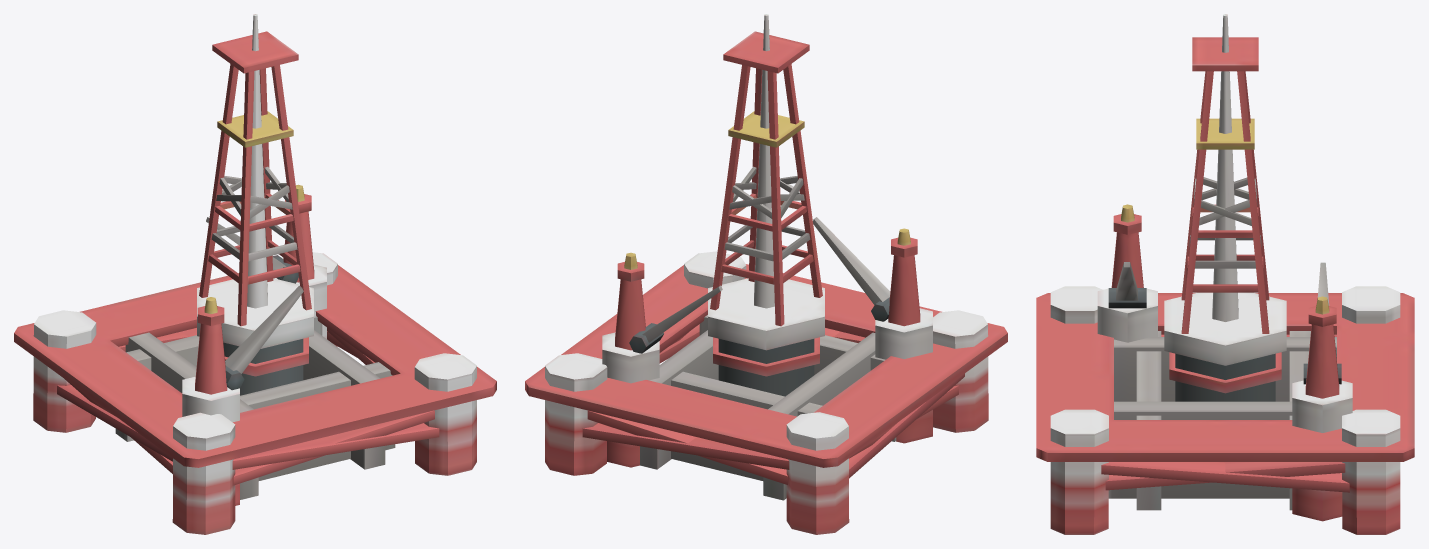
3 renders of one model, left to right at view 1: azimuth 30°, elevation 25°; view 2: azimuth 150°, elevation 25°; view 3: azimuth 270°, elevation 25°, orthographic. The views are drawn at different scales.
Parts seen in each view (by area): view 1: SM_CAIYOUPINGTAI; view 2: SM_CAIYOUPINGTAI; view 3: SM_CAIYOUPINGTAI.
Boxes of the visible parts, box(x1,y1,x2,y2) form: SM_CAIYOUPINGTAI: box(14, 14, 496, 534); SM_CAIYOUPINGTAI: box(525, 14, 1007, 534); SM_CAIYOUPINGTAI: box(1036, 14, 1414, 534).
Bounding box in the file's own units: 5.52 × 7.19 × 5.52.
Materials: 1 (1 with a texture image).
